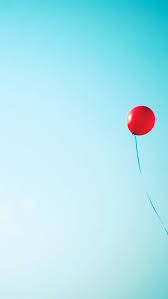Balloon: (126, 106, 156, 136)
